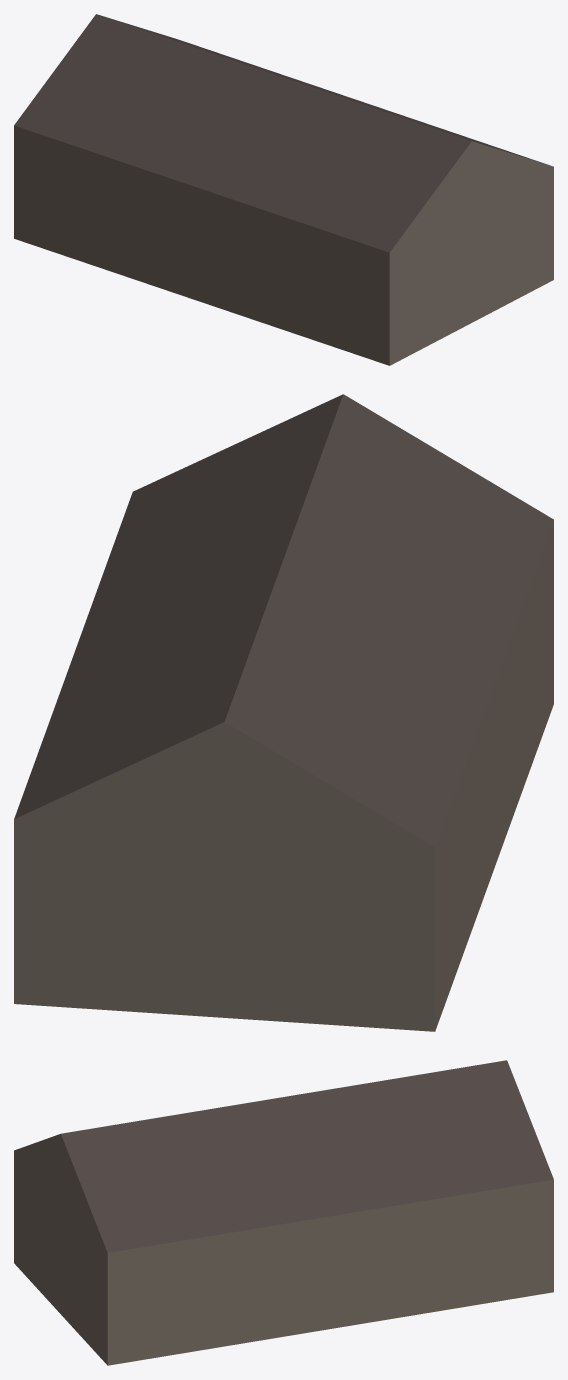
3 renders of one model, top to bottom at view 1: azimuth 30°, elevation 25°; view 2: azimuth 150°, elevation 25°; view 3: azimuth 270°, elevation 25°, orthographic. The views are drawn at different scales.
Visible parts, largest first — view 1: HP-w859447869; view 2: HP-w859447869; view 3: HP-w859447869.
Boxes of the visible parts, bbox=[...] form: HP-w859447869: bbox=[14, 14, 553, 365]; HP-w859447869: bbox=[14, 394, 553, 1031]; HP-w859447869: bbox=[14, 1060, 553, 1365].
Bounding box in the file's own units: 20.11 × 9.63 × 26.07.
